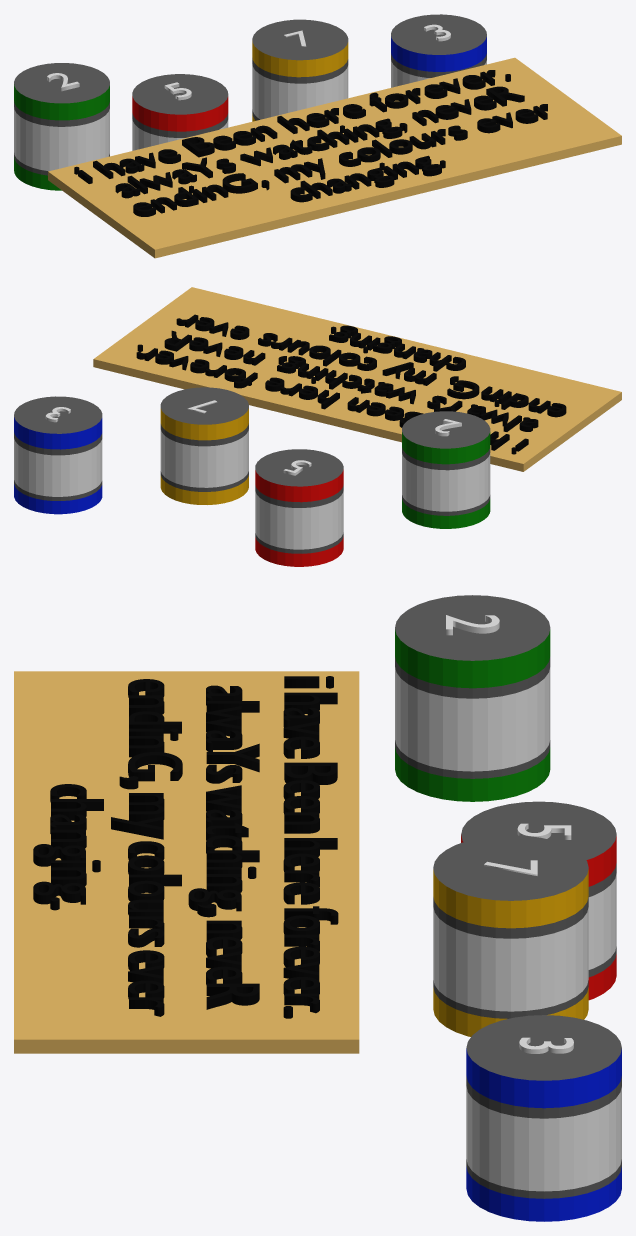
The model's file is Barrel-puzzle.fbx.
3 renders of one model, top to bottom at view 1: azimuth 30°, elevation 25°; view 2: azimuth 150°, elevation 25°; view 3: azimuth 270°, elevation 25°, orthographic. The views are drawn at different scales.
Visible parts, largest first — view 1: Text.002, Text.001, Cylinder.003, Cylinder, Cylinder.001; view 2: Text.002, Cylinder.001, Text.001, Cylinder.003, Cylinder; view 3: Text.002, Cylinder.001, Text.001, Cylinder.003, Cylinder.
Boxes of the visible parts, <box> form: Text.002: <box>48,57,621,258</box>; Text.001: <box>14,63,109,190</box>; Cylinder.003: <box>252,19,348,121</box>; Cylinder: <box>132,74,228,150</box>; Cylinder.001: <box>391,14,486,87</box>; Text.002: <box>93,287,621,471</box>; Cylinder.001: <box>14,396,102,514</box>; Text.001: <box>402,411,490,528</box>; Cylinder.003: <box>160,387,248,504</box>; Cylinder: <box>255,449,343,566</box>; Text.002: <box>14,671,359,1053</box>; Cylinder.001: <box>466,1015,621,1221</box>; Text.001: <box>395,595,550,801</box>; Cylinder.003: <box>433,835,588,1036</box>; Cylinder: <box>461,801,616,1000</box>.
Size of the model in its own units: 1175 by 358 by 782.
